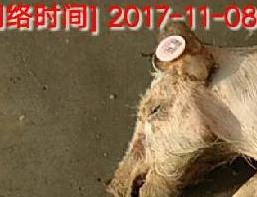text: (143, 25, 199, 68)
